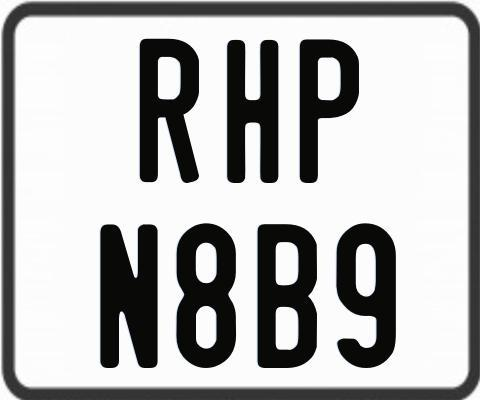8: (175, 222, 236, 369)
9: (336, 223, 402, 371)
B: (257, 222, 321, 368)
H: (224, 40, 280, 186)
N: (100, 224, 162, 374)
P: (297, 36, 359, 183)
R: (137, 38, 199, 185)
